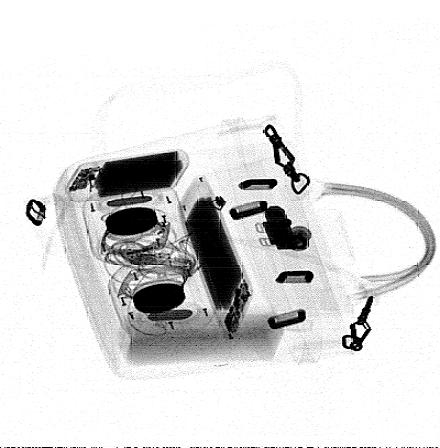Powerbank: (178, 174, 256, 341), (62, 148, 190, 203)
